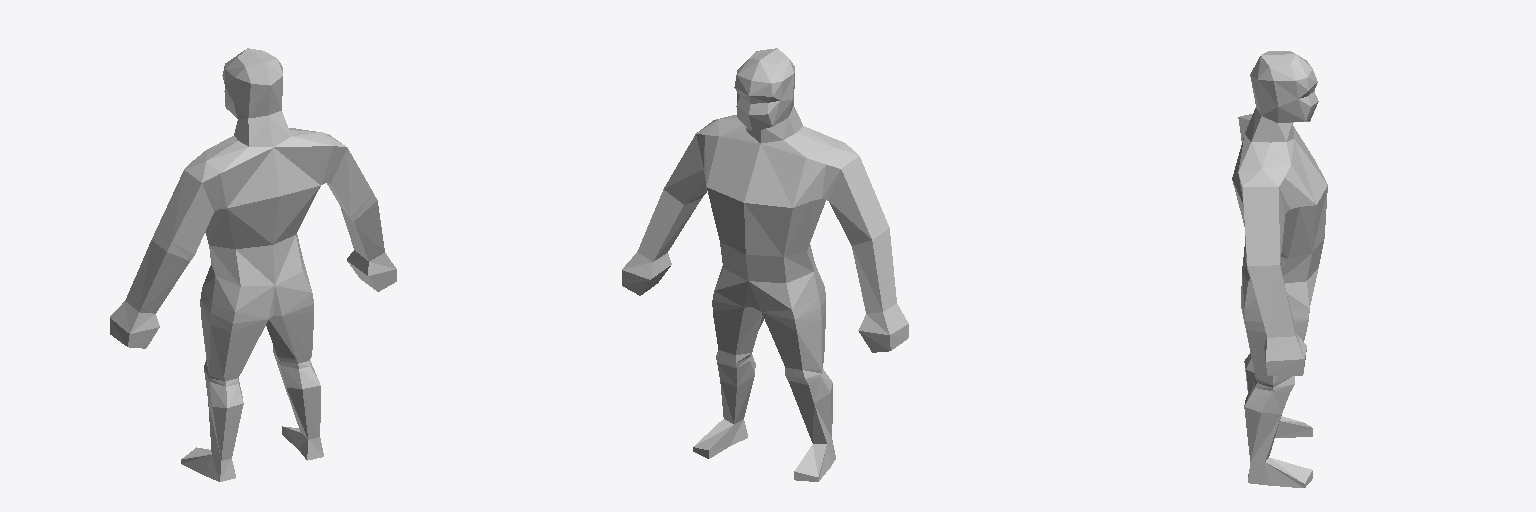
The model's file is basemesh.obj.
The picture shows the model from 3 angles: view 1: azimuth 30°, elevation 25°; view 2: azimuth 150°, elevation 25°; view 3: azimuth 270°, elevation 25°; orthographic projection.
Visible parts, largest first — view 1: Basemesh-ExaggeratedProportions; view 2: Basemesh-ExaggeratedProportions; view 3: Basemesh-ExaggeratedProportions.
Part boxes in pixels (bbox=[...]): Basemesh-ExaggeratedProportions: bbox=[110, 48, 396, 481]; Basemesh-ExaggeratedProportions: bbox=[622, 48, 908, 481]; Basemesh-ExaggeratedProportions: bbox=[1232, 51, 1327, 487].
Bounding box in the file's own units: 1.12 × 1.6 × 0.3459.